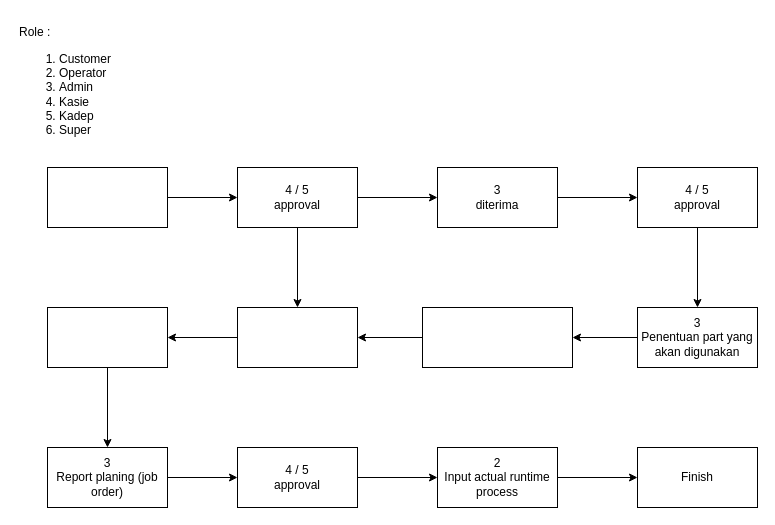
Image size: 775x525. Some labels were removed from this diagram. Here are the shapes that lost their labels. From the top down, the box of each, then its label:
(46, 166, 168, 228): 1 mengajukan form
(46, 306, 168, 368): 3 Scheduling mesin proses
(236, 306, 358, 368): 3 Estimasi penggunaan mesin dan urutan proses
(422, 306, 572, 368): 3 Estimasi harga menggunakan part yang sudah ditentukan
